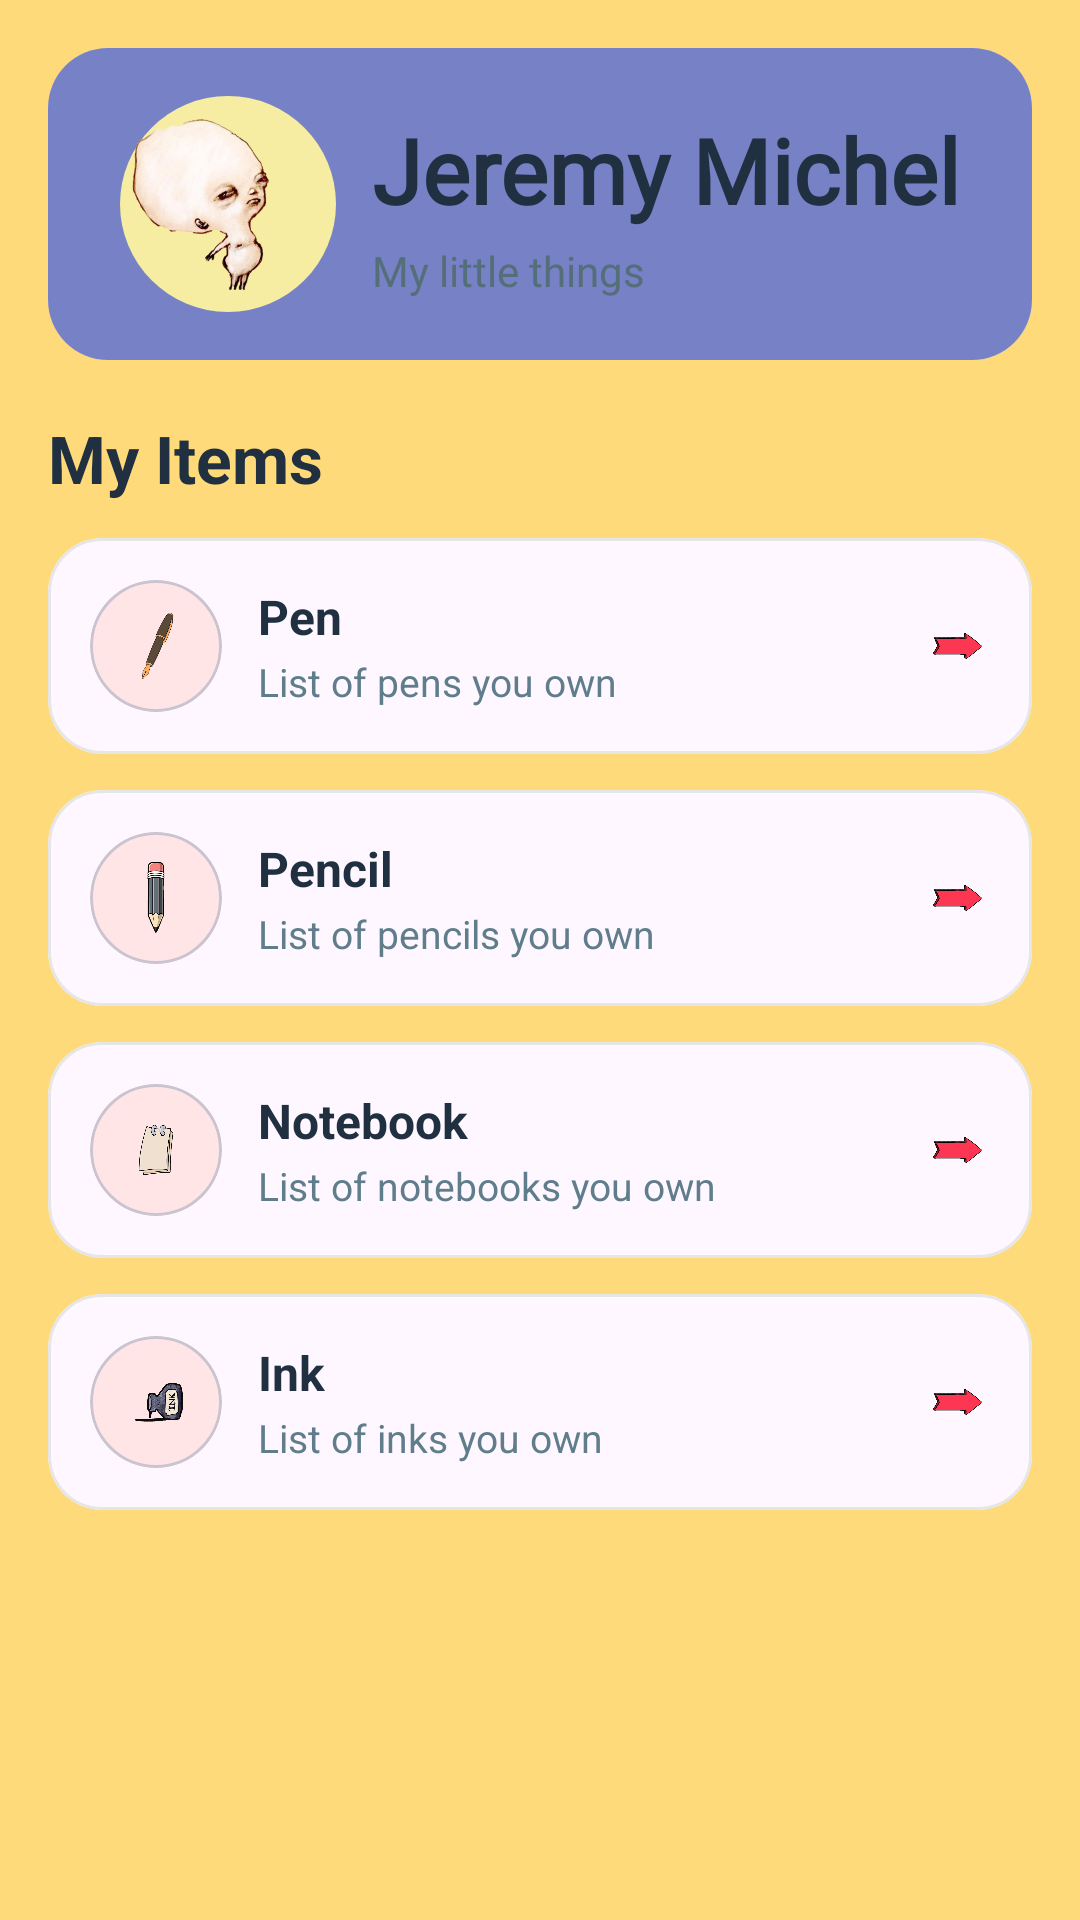

Icons on this 1080 x 1920 Android screen, each with its box as (x1, y1, x2, y2):
baby: (120, 96, 336, 312)
